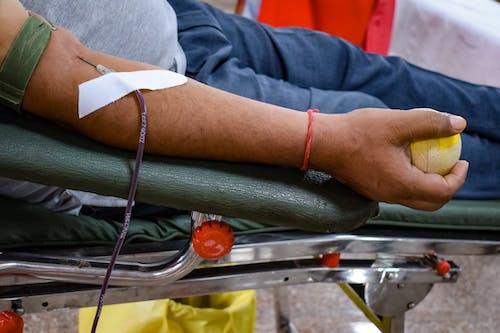blood: (89, 88, 147, 333)
